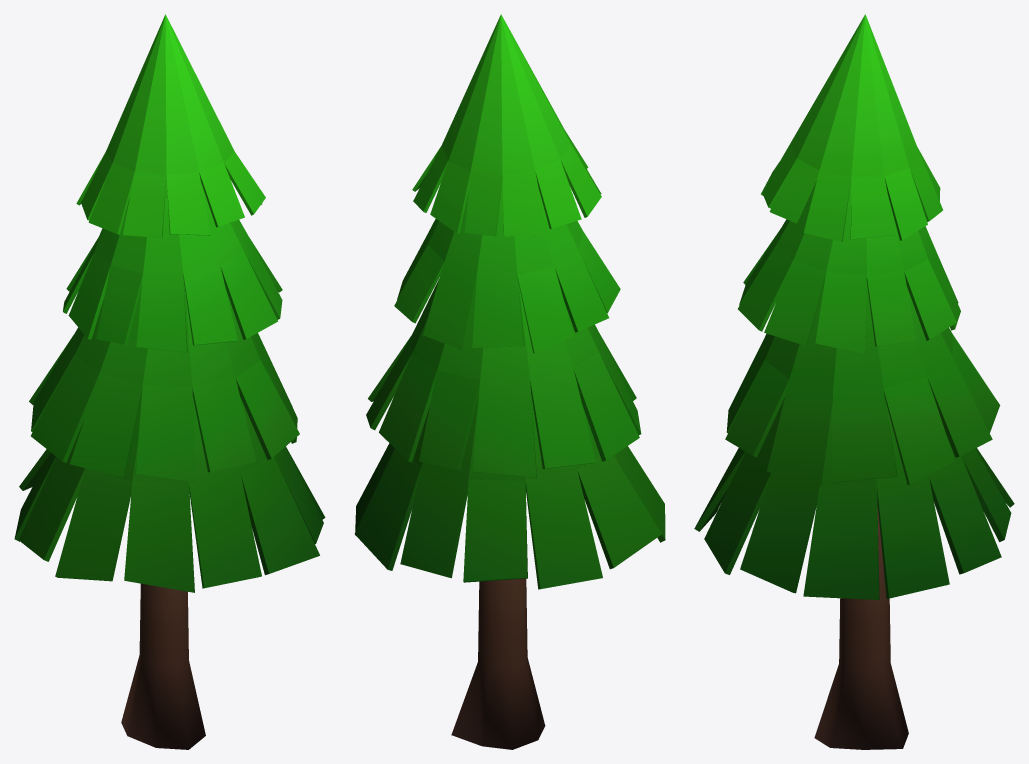
The model's file is Tree6.glb.
3 views of the same model, side by side, from view 1: azimuth 30°, elevation 25°; view 2: azimuth 150°, elevation 25°; view 3: azimuth 270°, elevation 25° (orthographic).
Parts seen in each view (by area): view 1: Tree.005; view 2: Tree.005; view 3: Tree.005.
Part boxes in pixels (bbox=[...]): Tree.005: bbox=[14, 14, 325, 749]; Tree.005: bbox=[354, 14, 665, 749]; Tree.005: bbox=[694, 14, 1014, 749].
Size of the model in its own units: 8.23 by 20.43 by 8.18.
2 materials, 2 textured.
